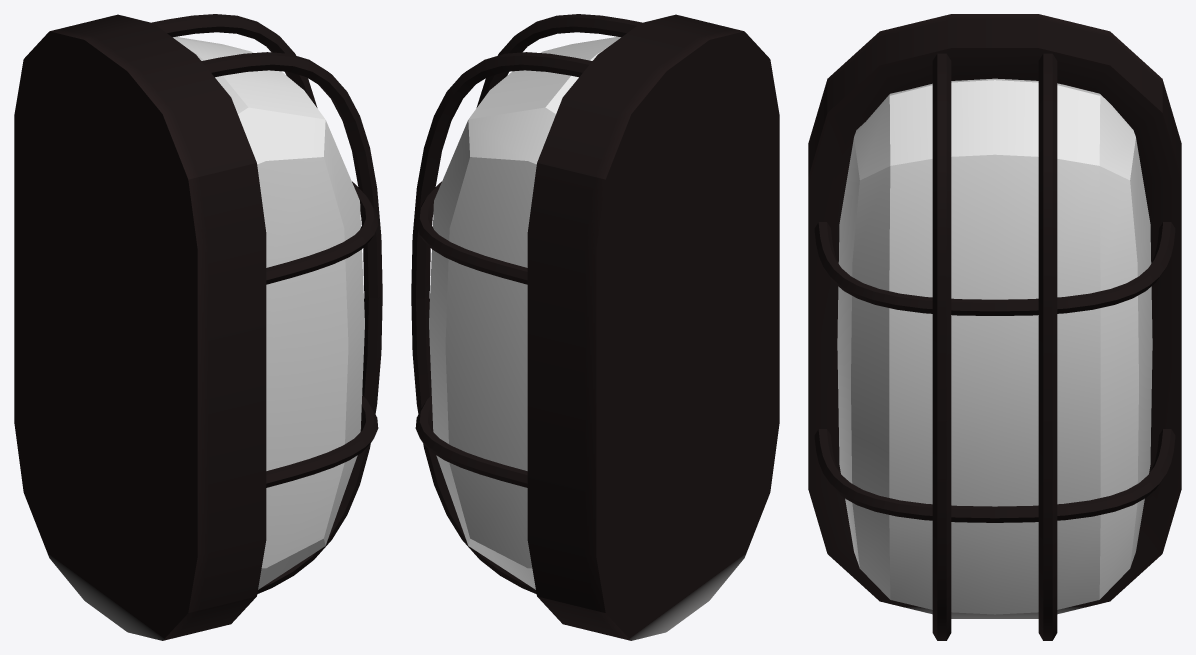
File: lampa_scienna.fbx
3 renders of one model, left to right at view 1: azimuth 30°, elevation 25°; view 2: azimuth 150°, elevation 25°; view 3: azimuth 270°, elevation 25°, orthographic.
Visible parts, largest first — view 1: Cube.002, Cube.001; view 2: Cube.002, Cube.001; view 3: Cube.001, Cube.002.
Boxes of the visible parts, bbox=[...] form: Cube.002: bbox=[14, 14, 382, 640]; Cube.001: bbox=[173, 36, 364, 589]; Cube.002: bbox=[411, 14, 779, 640]; Cube.001: bbox=[429, 36, 620, 589]; Cube.001: bbox=[837, 78, 1152, 614]; Cube.002: bbox=[808, 14, 1181, 640].
Bounding box in the file's own units: 119 × 93.02 × 201.
